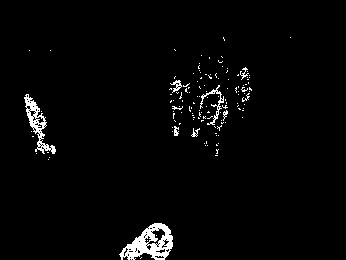person: (200, 84, 228, 157), (24, 93, 56, 154)
